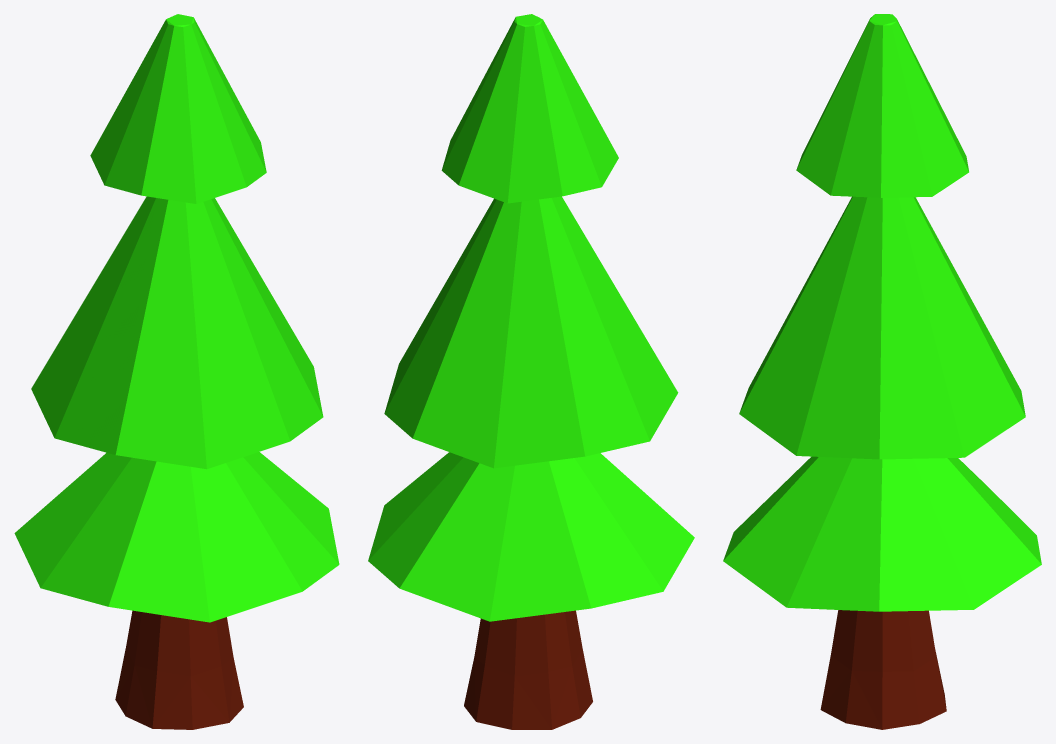
File: tree.obj
3 renders of one model, left to right at view 1: azimuth 30°, elevation 25°; view 2: azimuth 150°, elevation 25°; view 3: azimuth 270°, elevation 25°, orthographic.
Parts seen in each view (by area): view 1: Icosphere.001; view 2: Icosphere.001; view 3: Icosphere.001.
Boxes of the visible parts, bbox=[...] form: Icosphere.001: bbox=[14, 14, 339, 729]; Icosphere.001: bbox=[368, 14, 694, 729]; Icosphere.001: bbox=[723, 14, 1041, 729].
Bounding box in the file's own units: 0.7199 × 1.66 × 0.7019.
